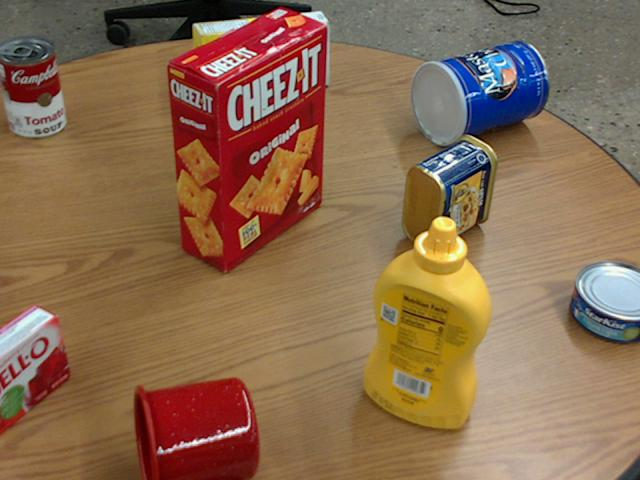cracker_box: (166, 8, 328, 271)
gelatin_box: (0, 303, 67, 429)
master_chef_can: (409, 40, 548, 144)
mug: (130, 377, 257, 479)
mustard_bottle: (363, 216, 490, 428)
potted_meat_can: (402, 133, 497, 249)
sugar_box: (193, 10, 331, 99)
tomato_soup_can: (0, 35, 65, 137)
tuna_fish_can: (569, 260, 639, 341)
